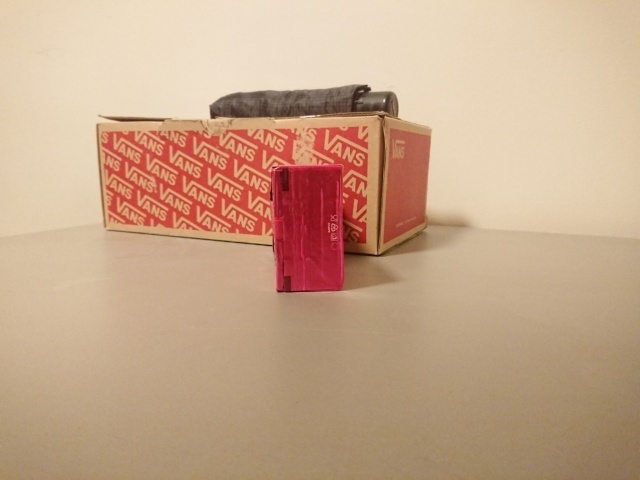Barcaffe Classic Original 225g: (267, 161, 348, 297)
